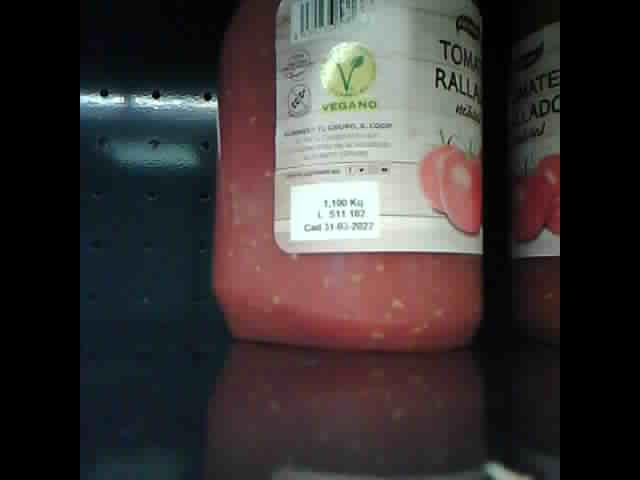tomate: (216, 3, 485, 352), (502, 7, 560, 342)
